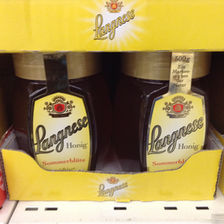honey: (11, 53, 109, 172), (119, 53, 212, 173)
